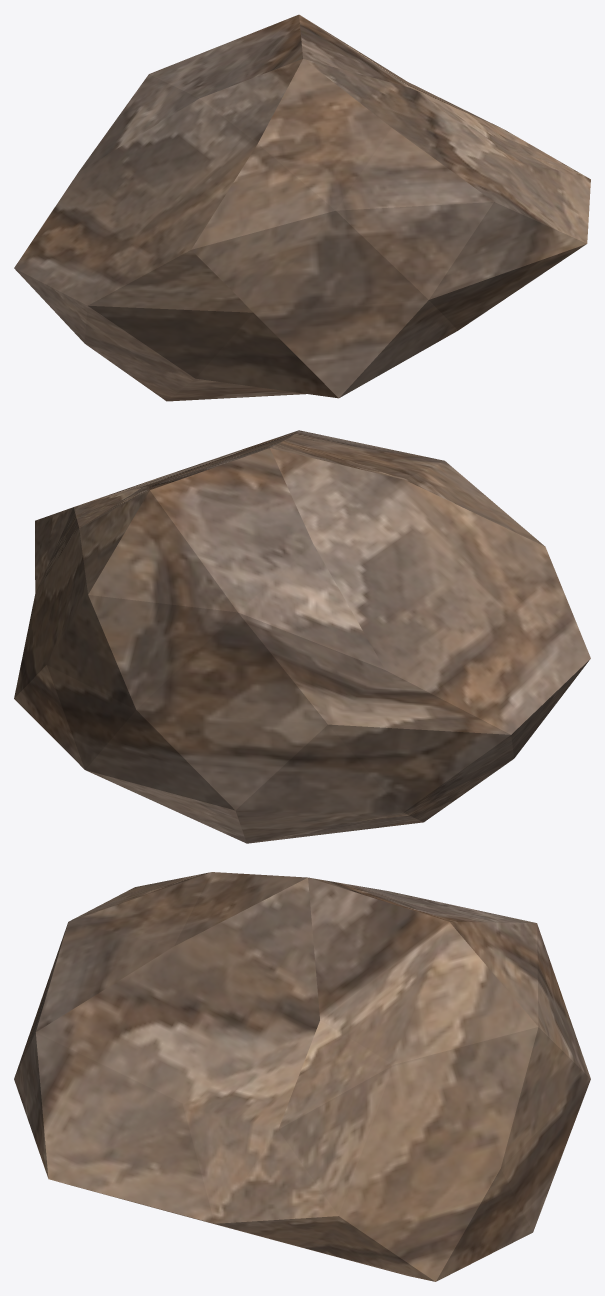
The model's file is rock-l-sharp_lod1.glb.
The picture shows the model from 3 angles, top to bottom: view 1: azimuth 30°, elevation 25°; view 2: azimuth 150°, elevation 25°; view 3: azimuth 270°, elevation 25°; orthographic projection. The views are drawn at different scales.
Parts seen in each view (by area): view 1: rock-l-sharp; view 2: rock-l-sharp; view 3: rock-l-sharp.
Part boxes in pixels (left/top/right/bottom): rock-l-sharp: left=14, top=14, right=590, bottom=401; rock-l-sharp: left=14, top=430, right=590, bottom=843; rock-l-sharp: left=14, top=872, right=590, bottom=1281.
Size of the model in its own units: 4.26 by 2.49 by 3.37.
1 material, 1 textured.
